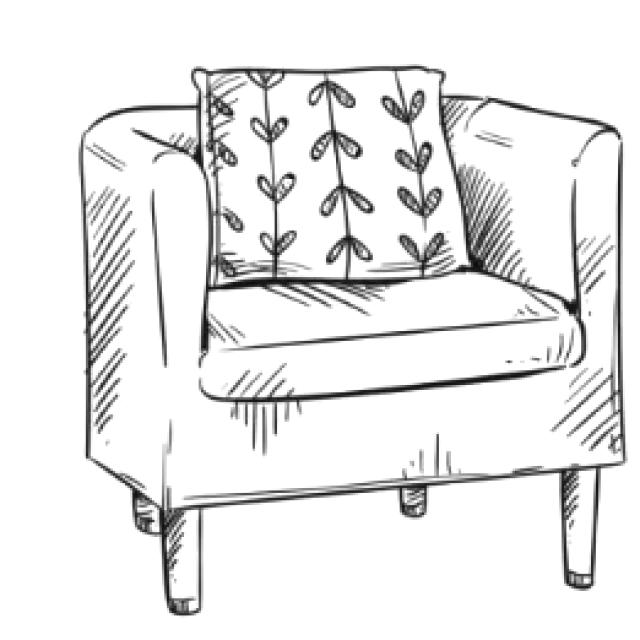Armrest: (80, 114, 208, 516), (439, 95, 623, 313)
Backrest: (184, 52, 485, 296)
Leg_Structure: (129, 460, 602, 619)
Seat: (199, 269, 586, 404)
